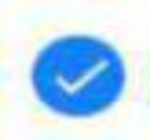CheckBox: (1, 1, 149, 139)
